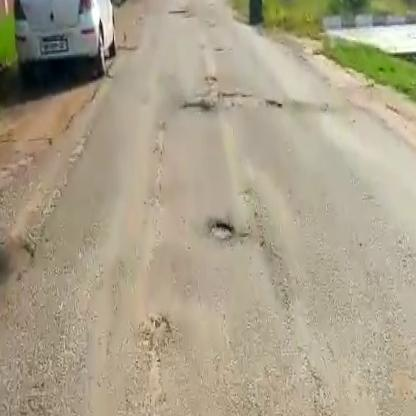pothole: (208, 215, 243, 245)
